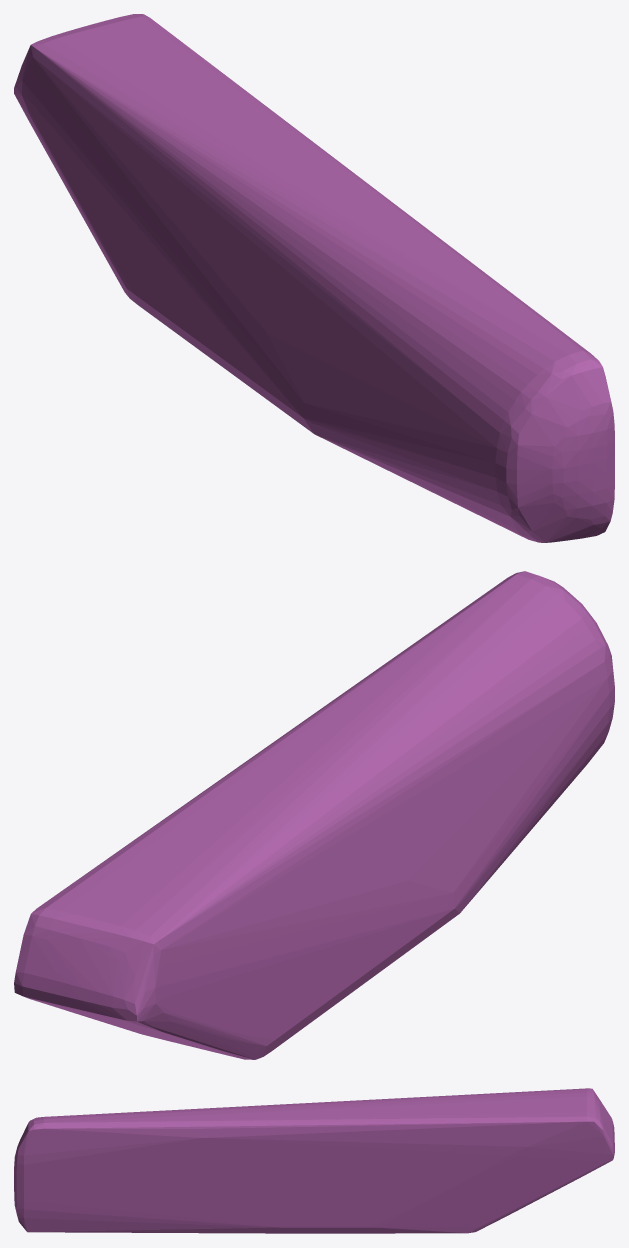
The model's file is right-toe-roll-0_part_7.obj.
3 renders of one model, top to bottom at view 1: azimuth 30°, elevation 25°; view 2: azimuth 150°, elevation 25°; view 3: azimuth 270°, elevation 25°, orthographic. The views are drawn at different scales.
Bounding box in the file's own units: 0.024 × 0.0353 × 0.1638.
